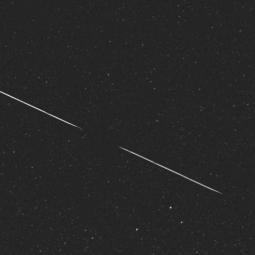smart_1: (58, 97, 135, 175)
